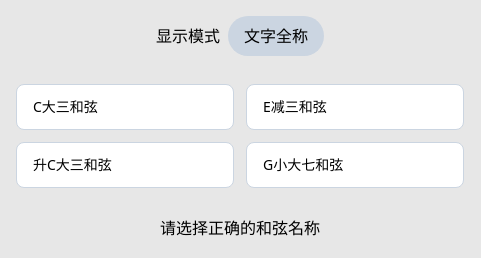
it: ChordTextSubmitter › clicking wrong option shows 错误❌, wrong=red, correct=green
Click the button with test id "^option-". click: (355, 107)
box: [246,84,464,130]
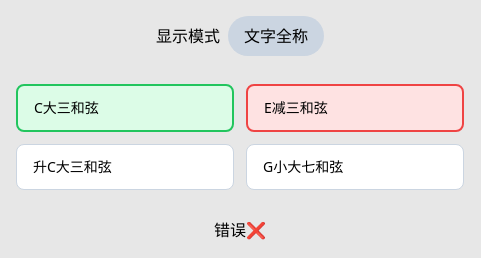
Check: the text with test id "text-submitter-message" reads "错误❌", box [214,219,266,241]
